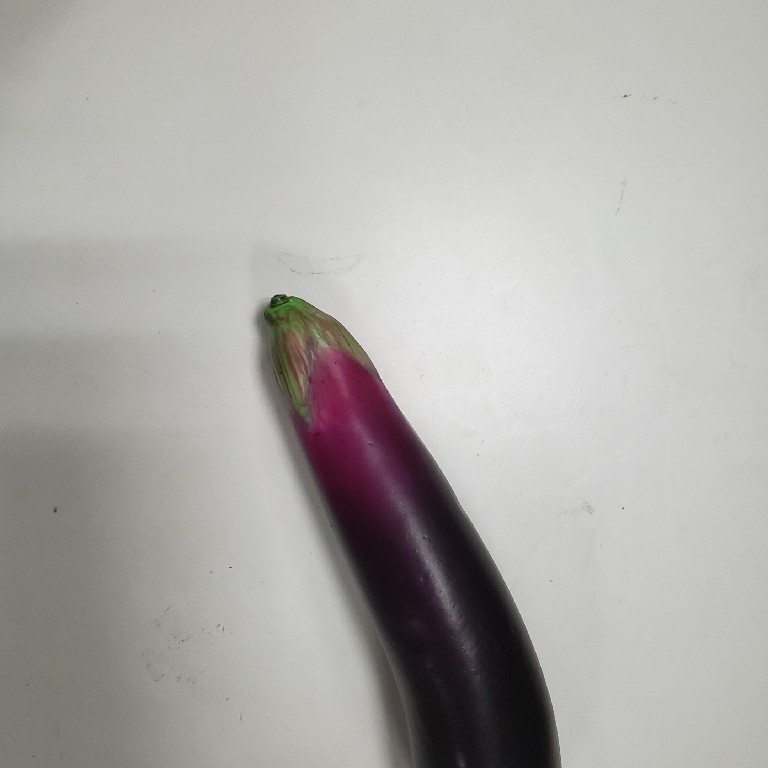fruit_eggplant: (258, 291, 566, 768)
